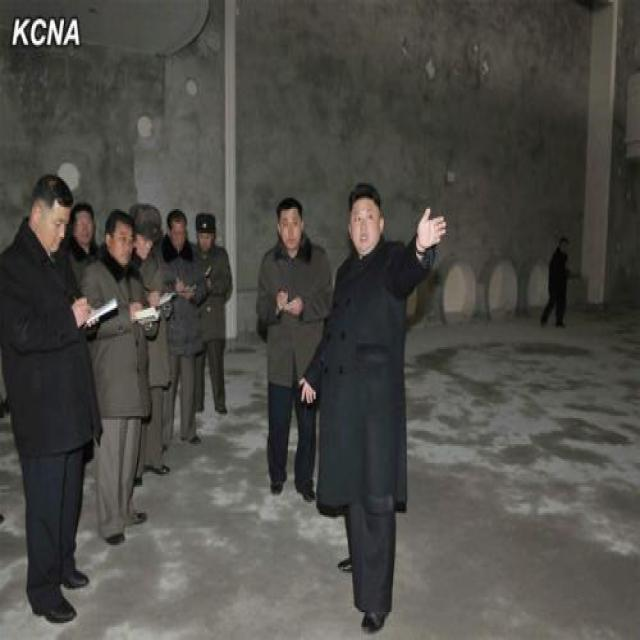no-helmet: (27, 166, 73, 258), (342, 181, 388, 254), (106, 205, 142, 269), (274, 192, 308, 256), (64, 196, 97, 254), (192, 207, 221, 258), (164, 203, 189, 254)
